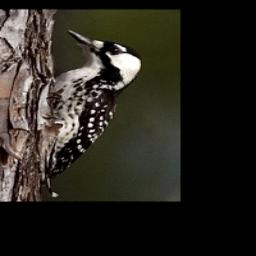Woodpecker: (36, 28, 146, 179)
